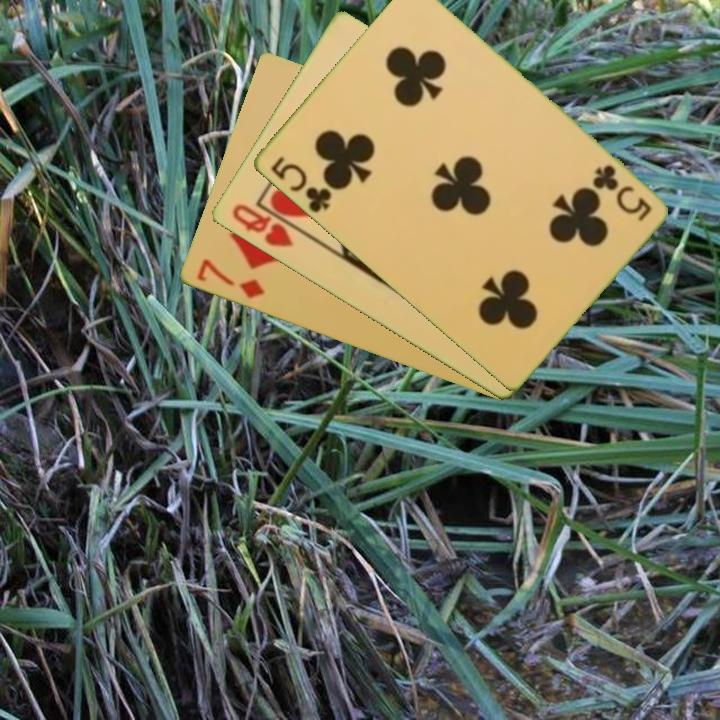5c: (588, 160, 654, 225), (266, 153, 334, 216)
7d: (193, 255, 267, 302)
Qh: (227, 200, 296, 250)
